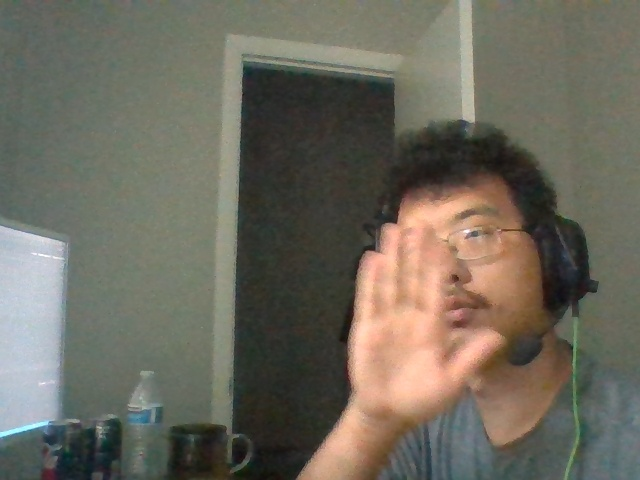ThankYou: (347, 222, 506, 424)
